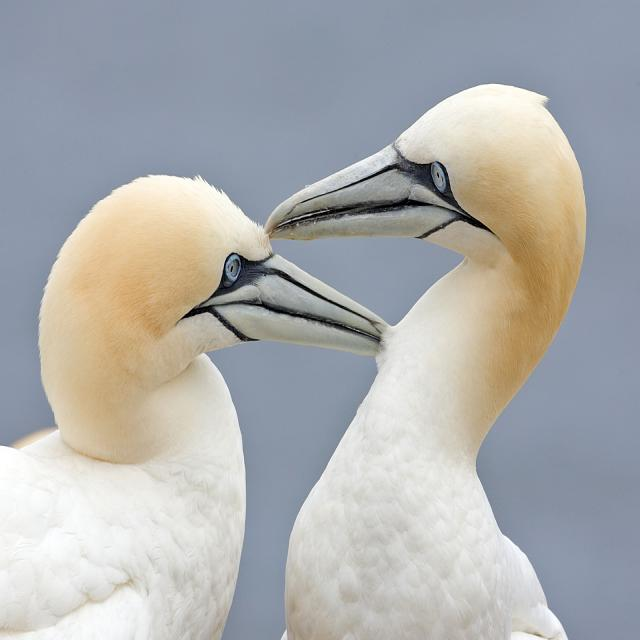bird: (273, 53, 614, 640), (0, 170, 396, 624)
